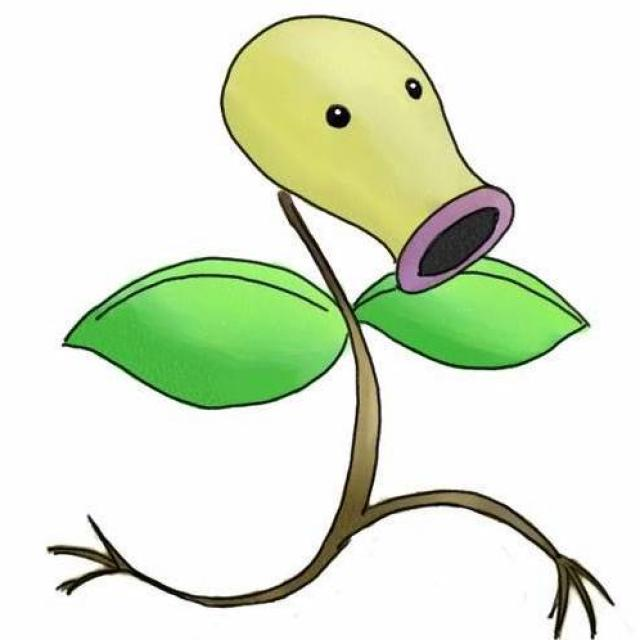Bellsprout: (202, 16, 510, 609)
